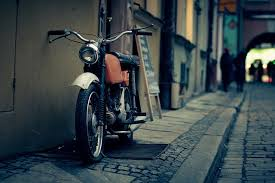motorcycle: (45, 26, 153, 166)
